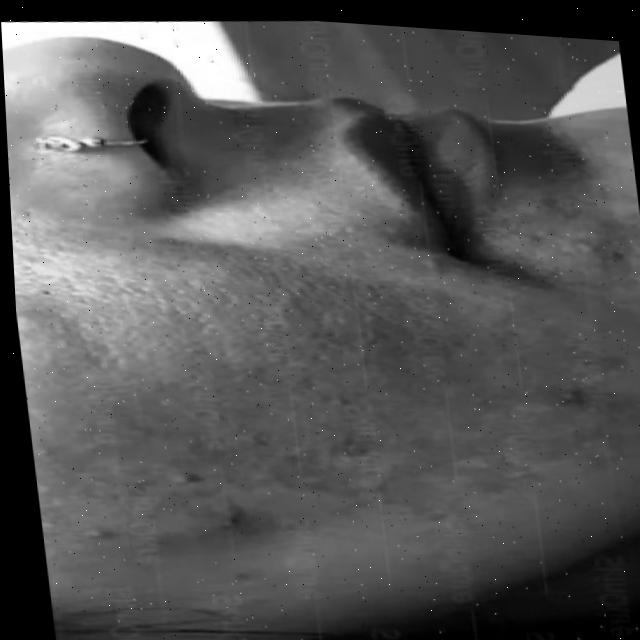Melasma: (15, 284, 575, 529)
